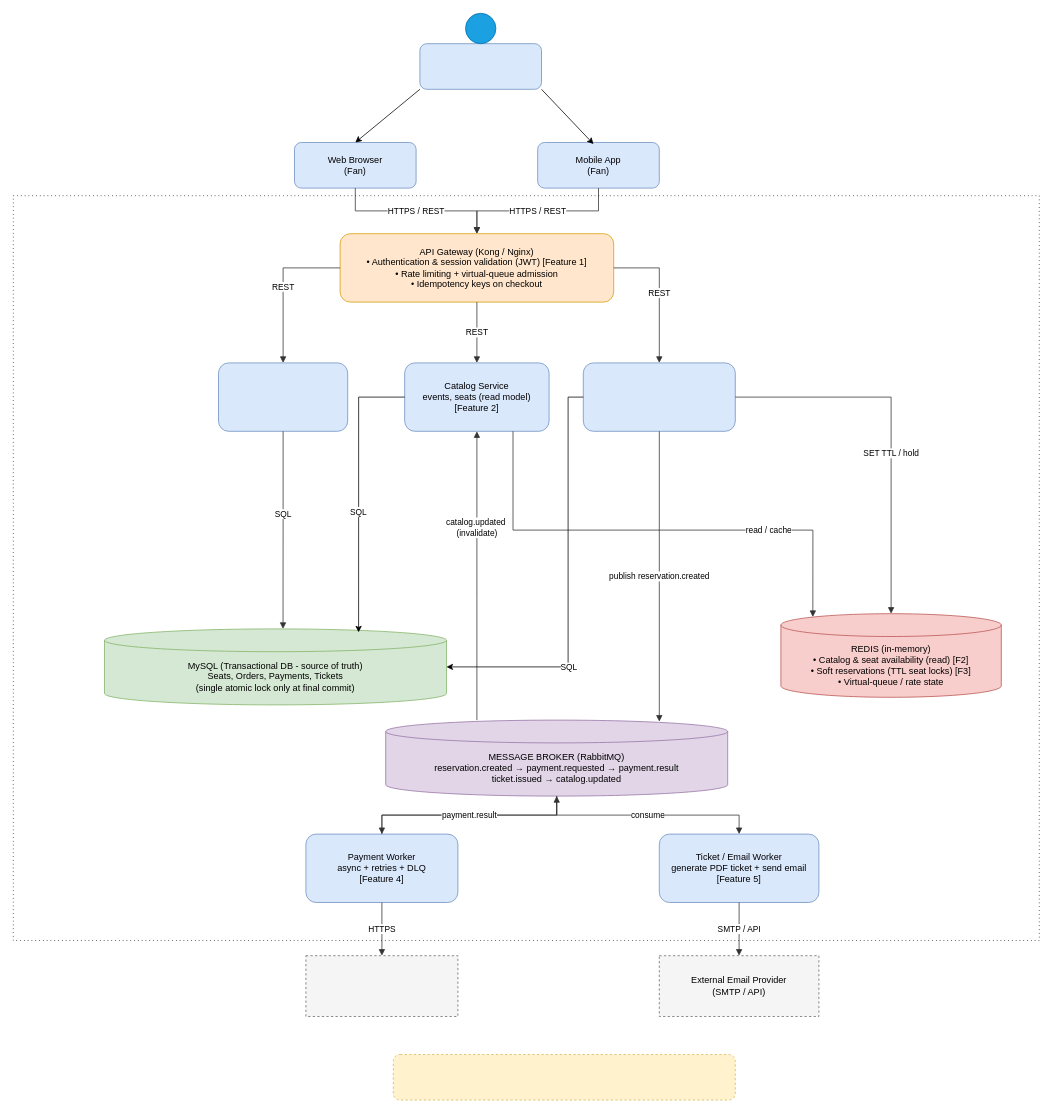
Some shapes in this 1053 by 1113 pixel diagram are drawn without their labels. The centre of each missing label's shape, as x and y in pixels:
Auth Service users, sessions [Feature 1]: the point at 283,396
External Legacy Payment Gateway (~15s): the point at 381,985
FAN (Person): the point at 480,66
Observability: Prometheus + Grafana + Loki (OpenTelemetry): the point at 564,1077
Reservation Service soft reservation, virtual queue [Feature 3]: the point at 659,396
